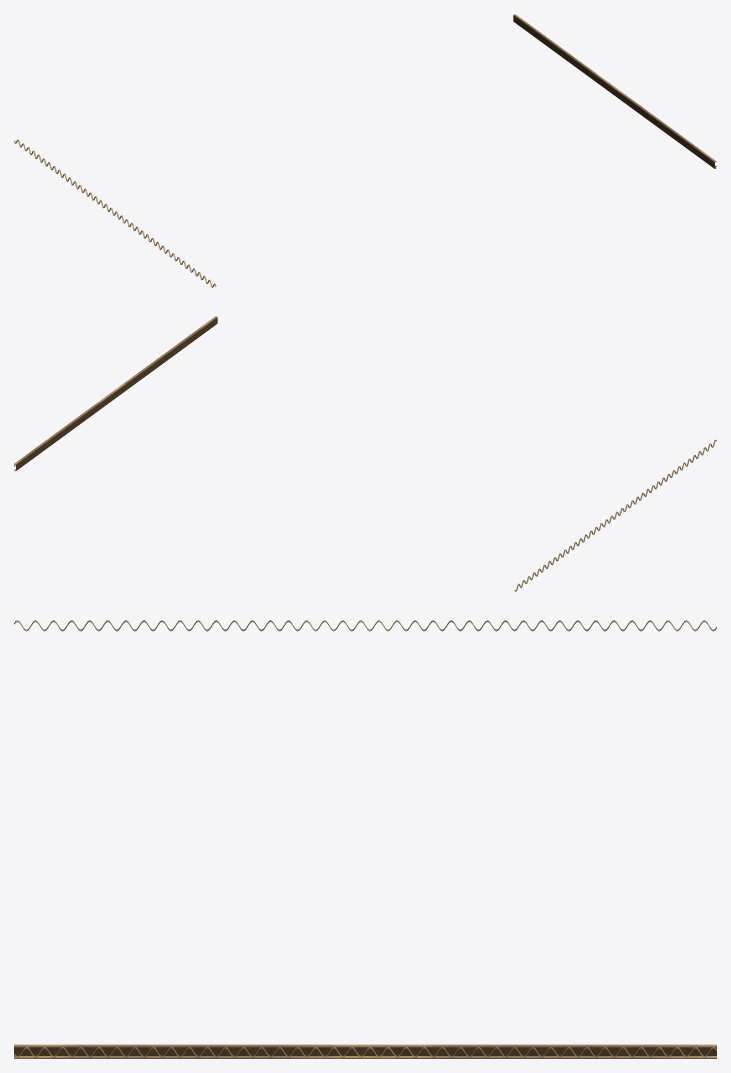
The model's file is 2-box-and-base-2.fbx.
3 views of the same model, one above another, from view 1: azimuth 30°, elevation 25°; view 2: azimuth 150°, elevation 25°; view 3: azimuth 270°, elevation 25° (orthographic). The views are drawn at different scales.
Visible parts, largest first — view 1: box-and-base-2; view 2: box-and-base-2; view 3: box-and-base-2.
Boxes of the visible parts, bbox=[...] form: box-and-base-2: bbox=[14, 14, 716, 287]; box-and-base-2: bbox=[14, 316, 716, 591]; box-and-base-2: bbox=[14, 620, 716, 1058].
Size of the model in its own units: 10072 by 140 by 7000.
Materials: 1 (1 with a texture image).
